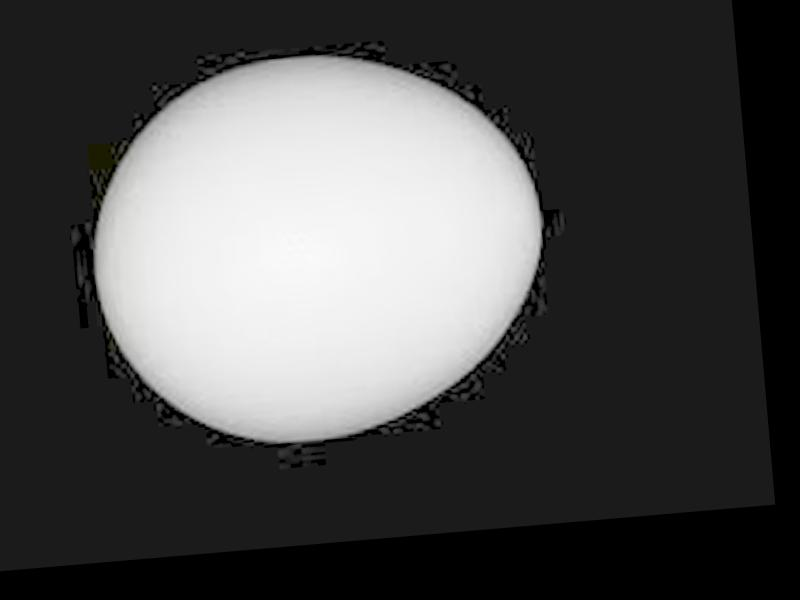Eggs: (81, 38, 553, 456)
